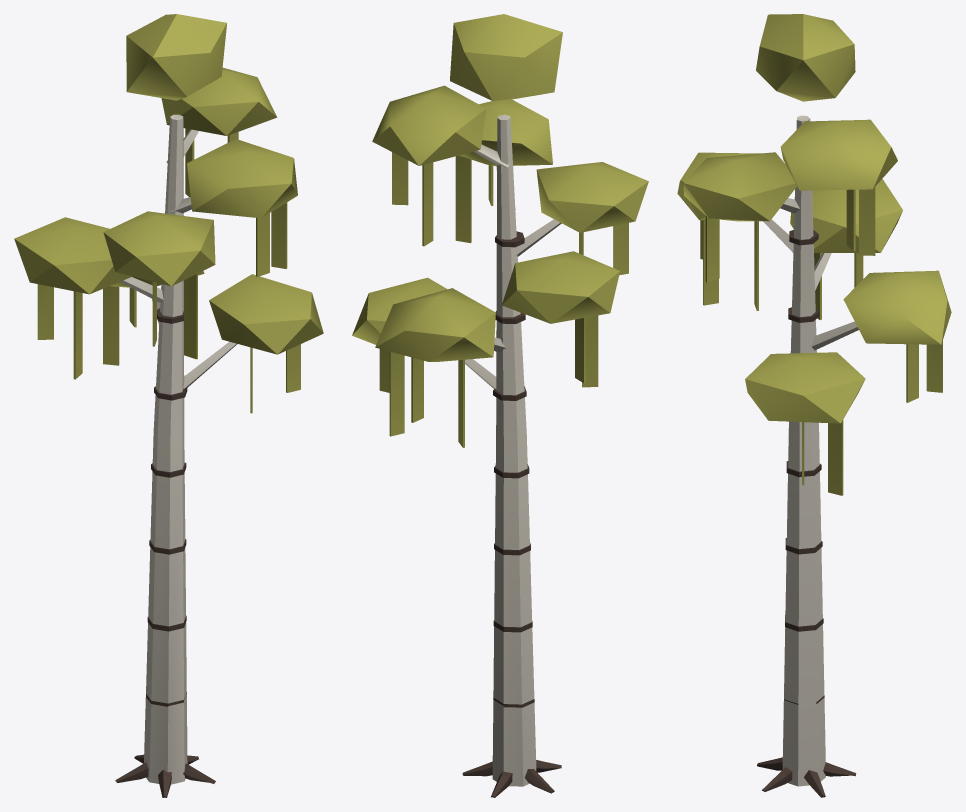
File: tree_bonebirch_s3.glb
3 renders of one model, left to right at view 1: azimuth 30°, elevation 25°; view 2: azimuth 150°, elevation 25°; view 3: azimuth 270°, elevation 25°, orthographic.
Parts seen in each view (by area): view 1: tree_bonebirch_s3; view 2: tree_bonebirch_s3; view 3: tree_bonebirch_s3.
Part boxes in pixels (left/top/right/bottom): tree_bonebirch_s3: left=14, top=14, right=323, bottom=797; tree_bonebirch_s3: left=352, top=14, right=648, bottom=797; tree_bonebirch_s3: left=677, top=14, right=951, bottom=797.
Size of the model in its own units: 1.69 by 4.68 by 1.51.
